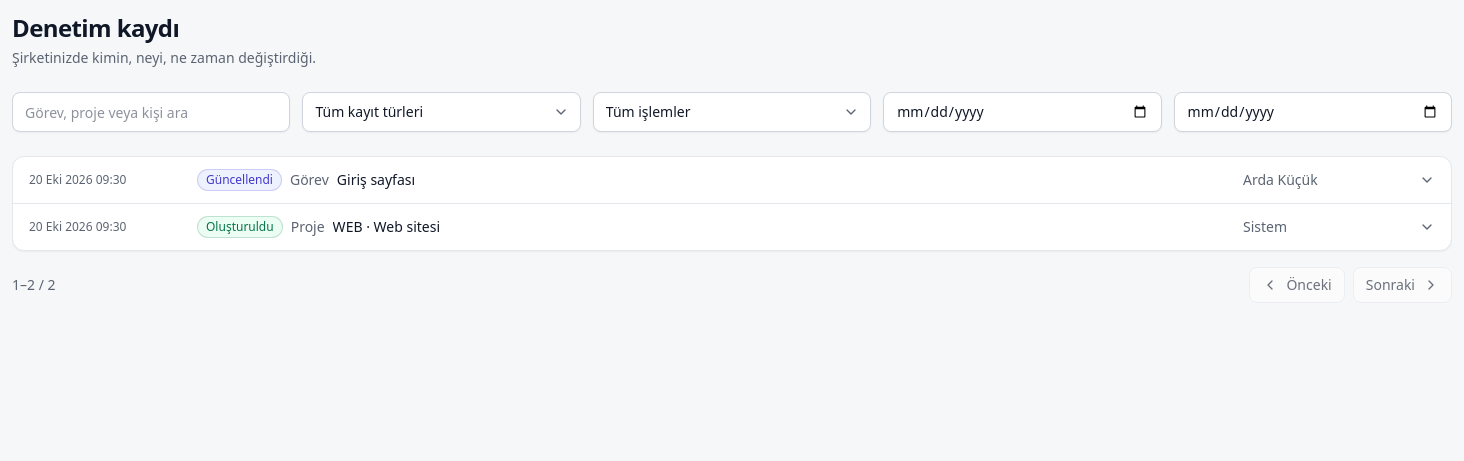
AuditLogPage › shows the changed fields when an entry is opened
Click the button "20 Eki 2026 09:30 Güncellendi Görev Giriş sayfası Arda Küçük".
click(78, 180)  # box [13,157,1451,203]
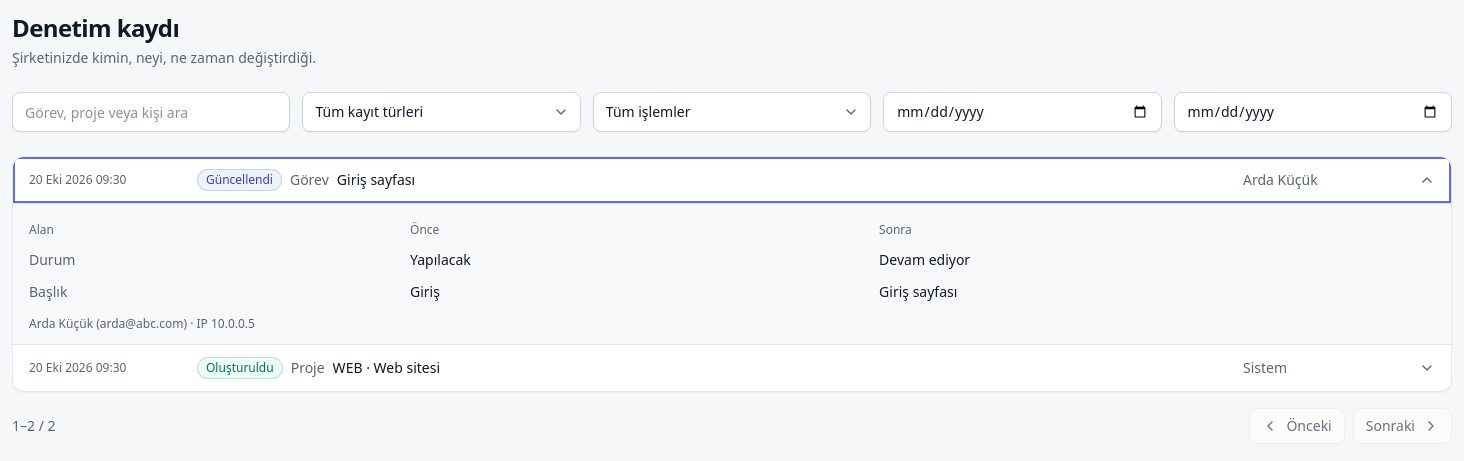
Expected: the row "Durum Yapılacak Devam ediyor" is shown, [29,244,1435,276]
Expected: the row "Başlık Giriş Giriş sayfası" is shown, [29,276,1435,308]
Expected: the text "Arda Küçük (arda@abc.com) · IP 10.0.0.5" is shown, [29,315,255,332]
